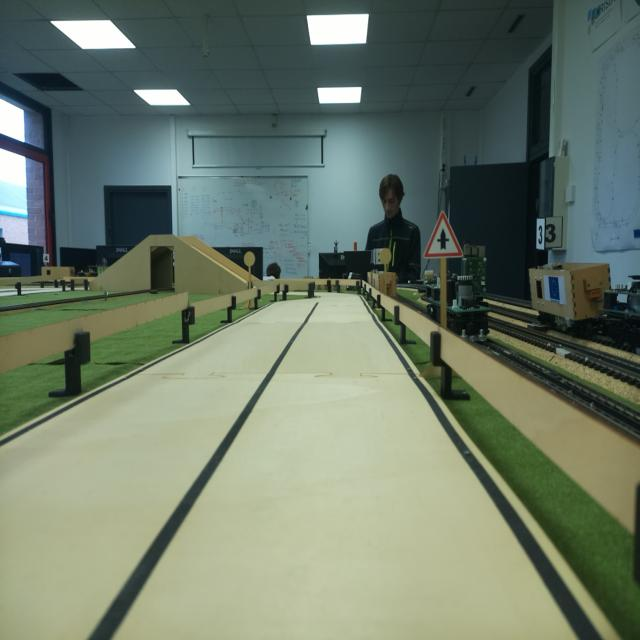panneau_intersection: (428, 216, 460, 262)
